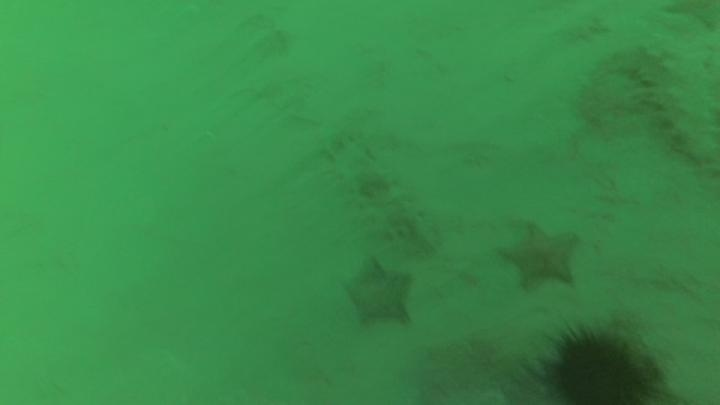echinus: (540, 323, 662, 404)
holothurian: (320, 129, 439, 251), (628, 40, 719, 170)
starfish: (495, 222, 582, 294), (339, 255, 418, 330)
